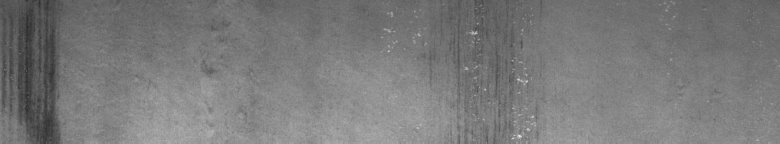ka: (4, 4, 64, 136)
